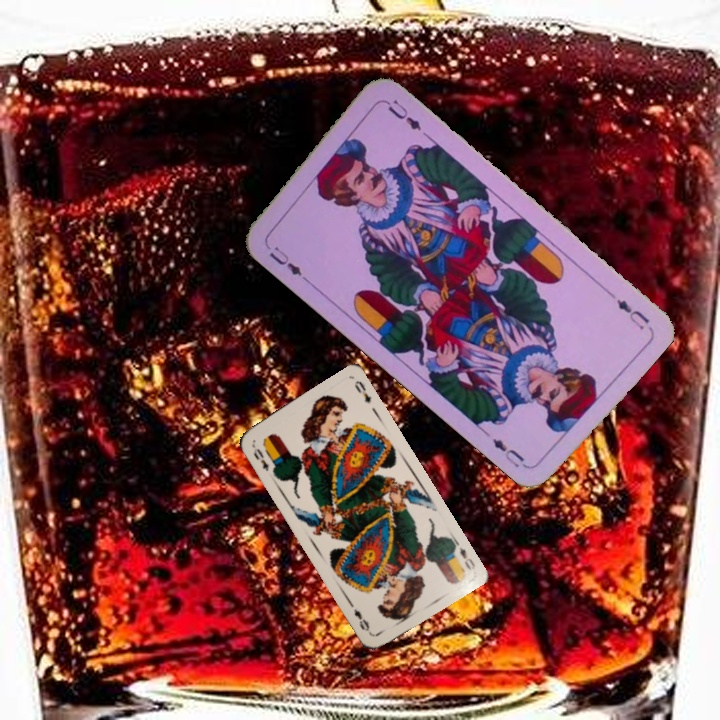EO: (449, 536, 478, 572), (248, 440, 272, 474)
EU: (612, 294, 653, 333), (265, 242, 305, 279)
